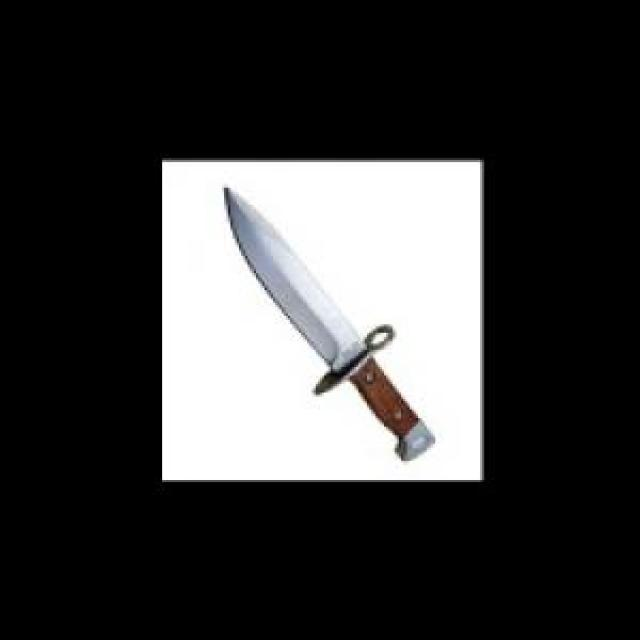knife: (215, 184, 444, 465)
